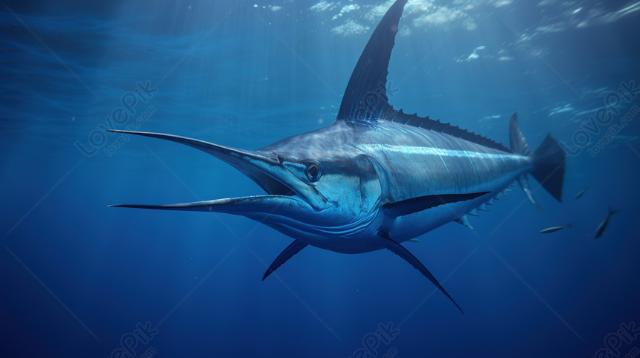Mulut: (86, 115, 332, 239)
Sirip Dada: (376, 177, 504, 238)
Sirip Ekor: (514, 114, 578, 214)
Sirip Perut: (252, 224, 476, 327)
Sirip Punggung: (327, 0, 523, 160)
